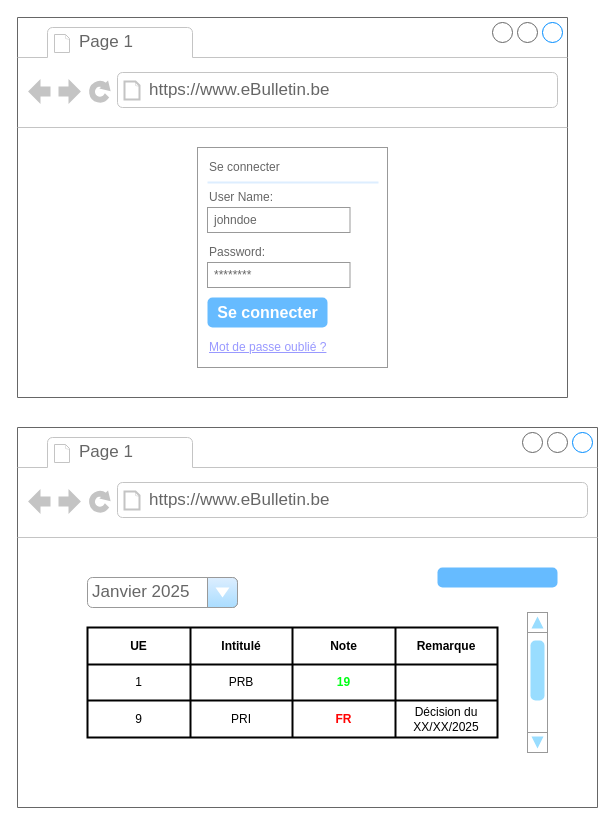
The diagram is 615 pixels wide and 825 high, and some of its shapes have lost their labels. The centre of each missing label's shape, as x and y in pixels:
"Connecté en tant que Bill Boquet" belongs at point (467, 557).
"Se déconnecter" belongs at point (497, 577).
